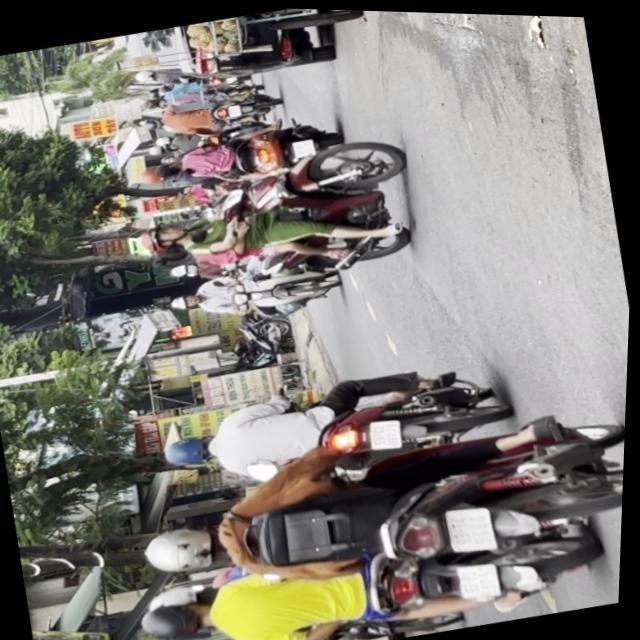helmet: (141, 516, 236, 581), (139, 594, 221, 640), (146, 578, 220, 615), (161, 431, 221, 473), (134, 221, 187, 257)
licenseplate: (128, 379, 629, 617), (135, 500, 618, 640), (121, 122, 437, 310), (152, 343, 516, 504)
nohelmet: (446, 501, 499, 554), (459, 561, 504, 601), (368, 418, 404, 451)
